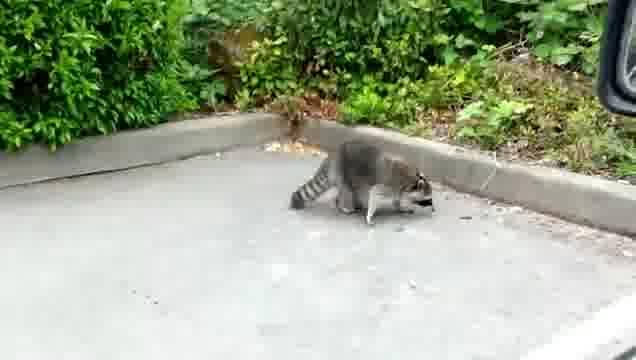raccoon: (286, 139, 441, 234)
